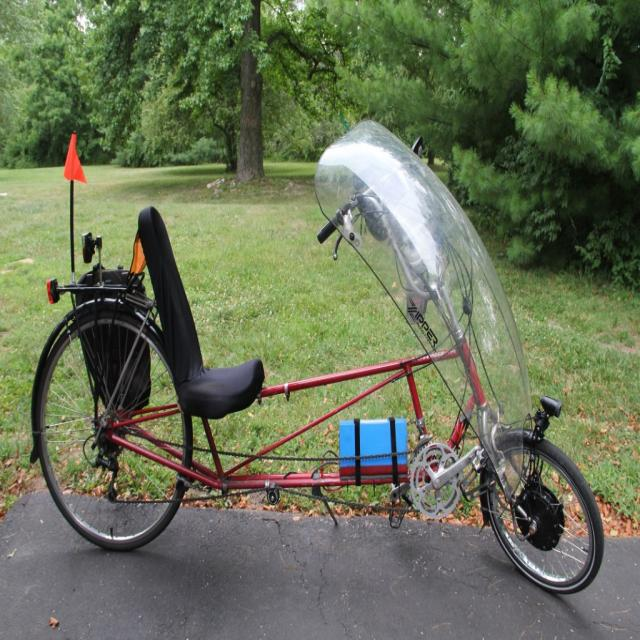recumbent-bike: (32, 122, 610, 603)
